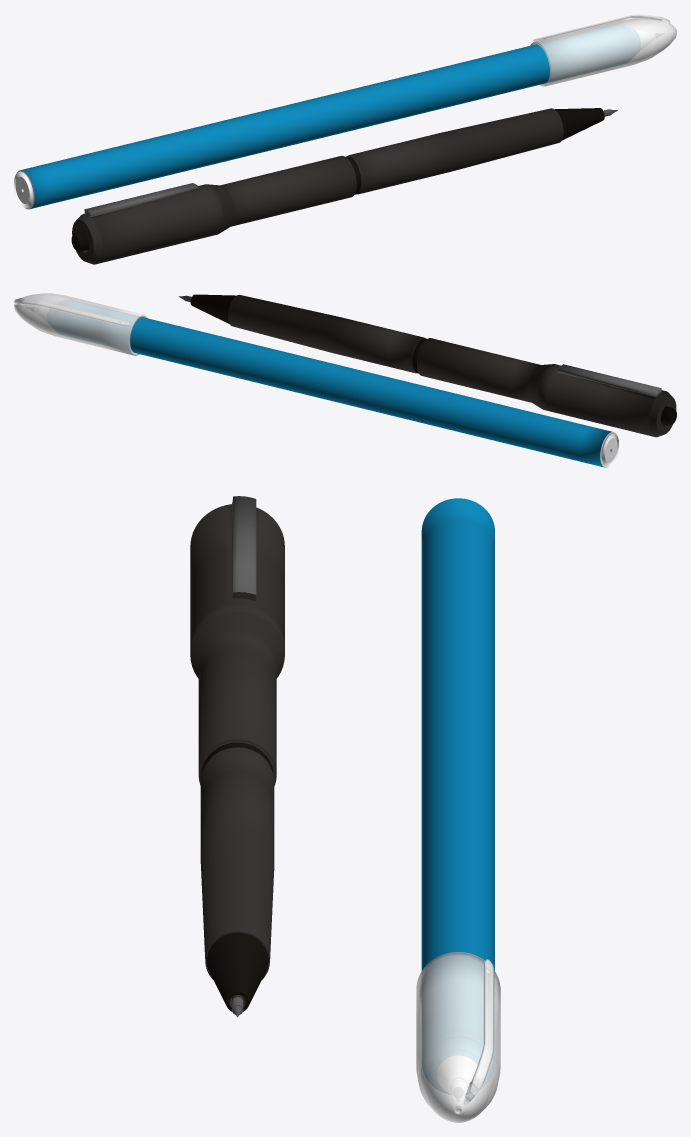
The model's file is pens.fbx.
3 renders of one model, top to bottom at view 1: azimuth 30°, elevation 25°; view 2: azimuth 150°, elevation 25°; view 3: azimuth 270°, elevation 25°, orthographic. The views are drawn at different scales.
Parts seen in each view (by area): view 1: Cylinder.002, Cylinder, Cylinder.001; view 2: Cylinder.002, Cylinder, Cylinder.001; view 3: Cylinder.002, Cylinder, Cylinder.001.
Boxes of the visible parts, x1,y1,x2,y2 form: Cylinder.002: (71,108,617,264); Cylinder: (14,44,549,209); Cylinder.001: (530,14,676,86); Cylinder.002: (178,294,676,437); Cylinder: (130,317,618,467); Cylinder.001: (14,293,148,355); Cylinder.002: (190,496,284,1017); Cylinder: (421,498,494,970); Cylinder.001: (416,952,500,1122).
Size of what is drawn, in the model's own units: 882 by 65.24 by 196.
